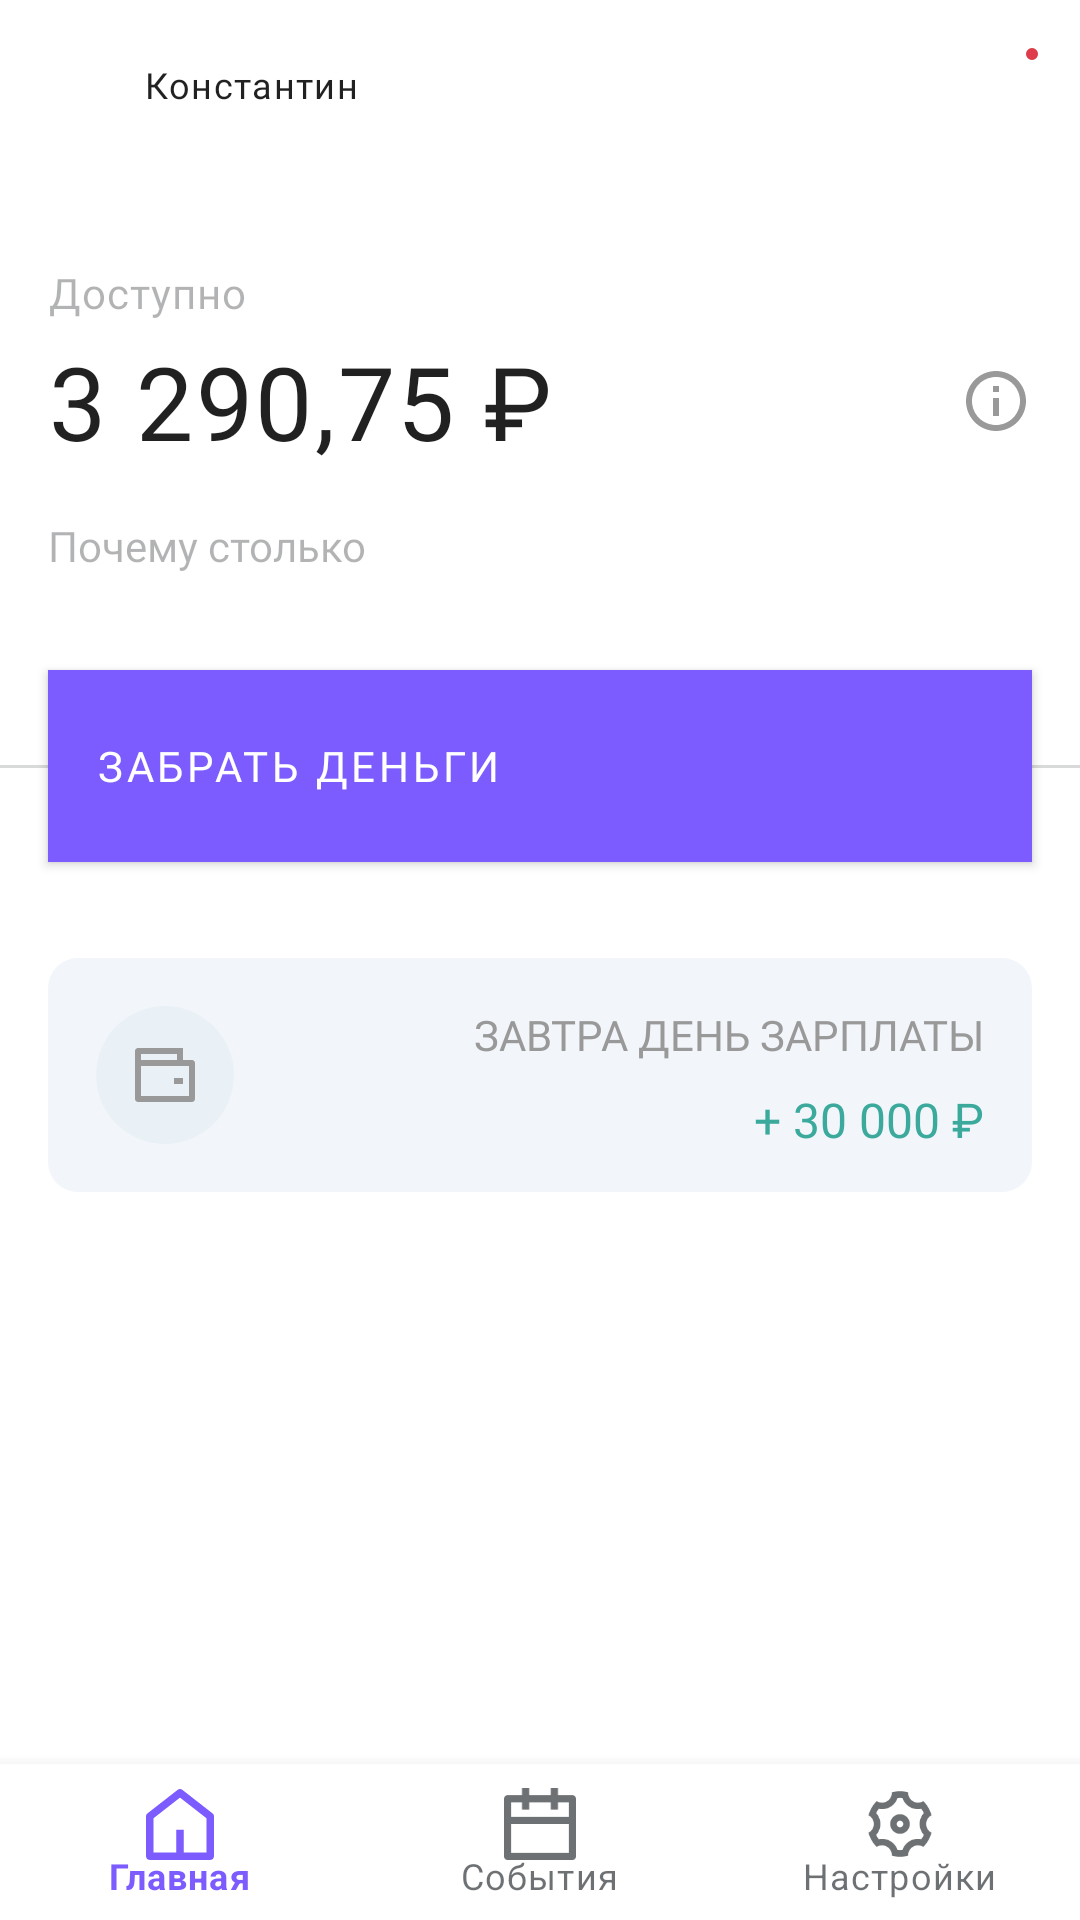

Named icons in this screenshot (1080px x 1920px) and their centers, (x=x, y=y):
info bank: (x=996, y=401)
